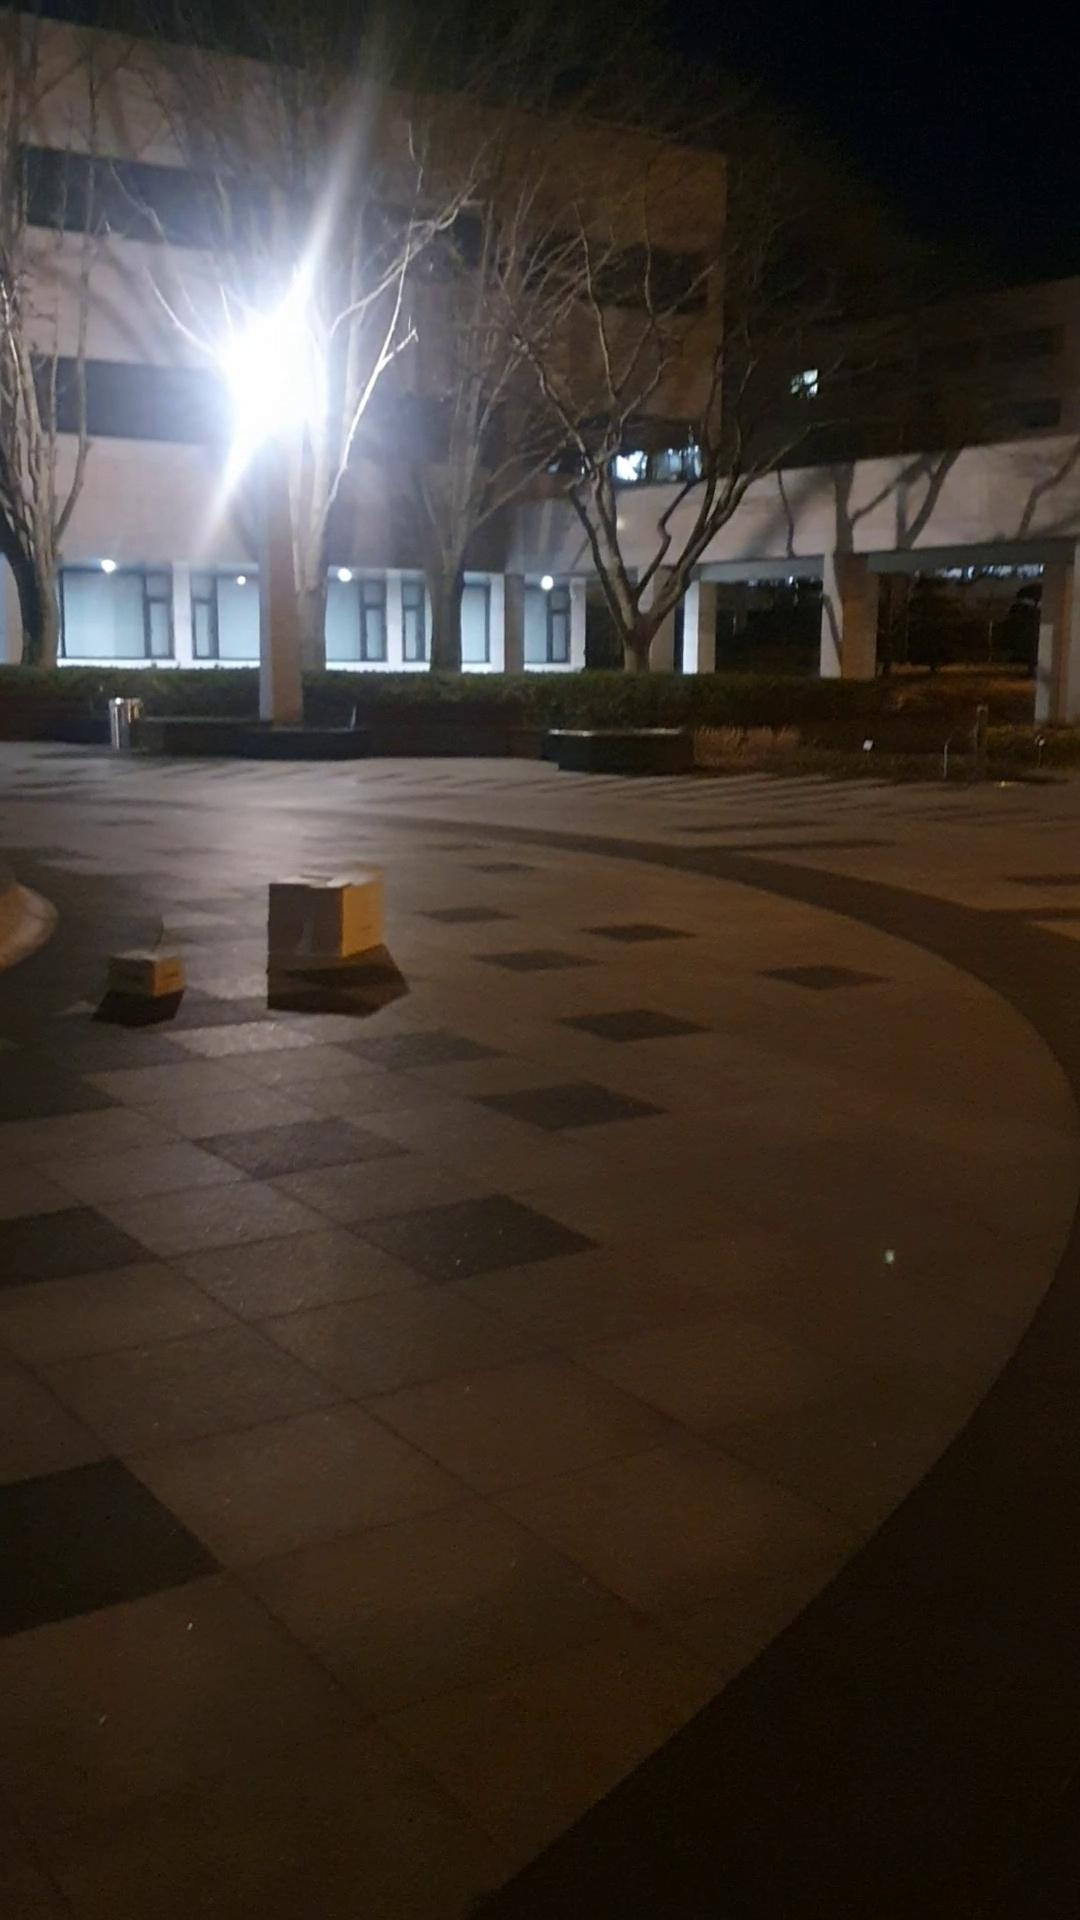Box: (256, 855, 388, 972), (105, 940, 185, 1007)
